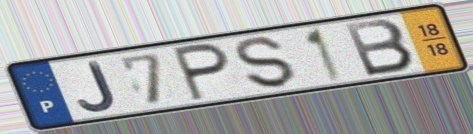1: (303, 24, 345, 85)
7: (118, 51, 165, 107)
B: (340, 17, 418, 79)
J: (74, 59, 119, 113)
P: (169, 41, 233, 104)
S: (233, 35, 299, 90)
